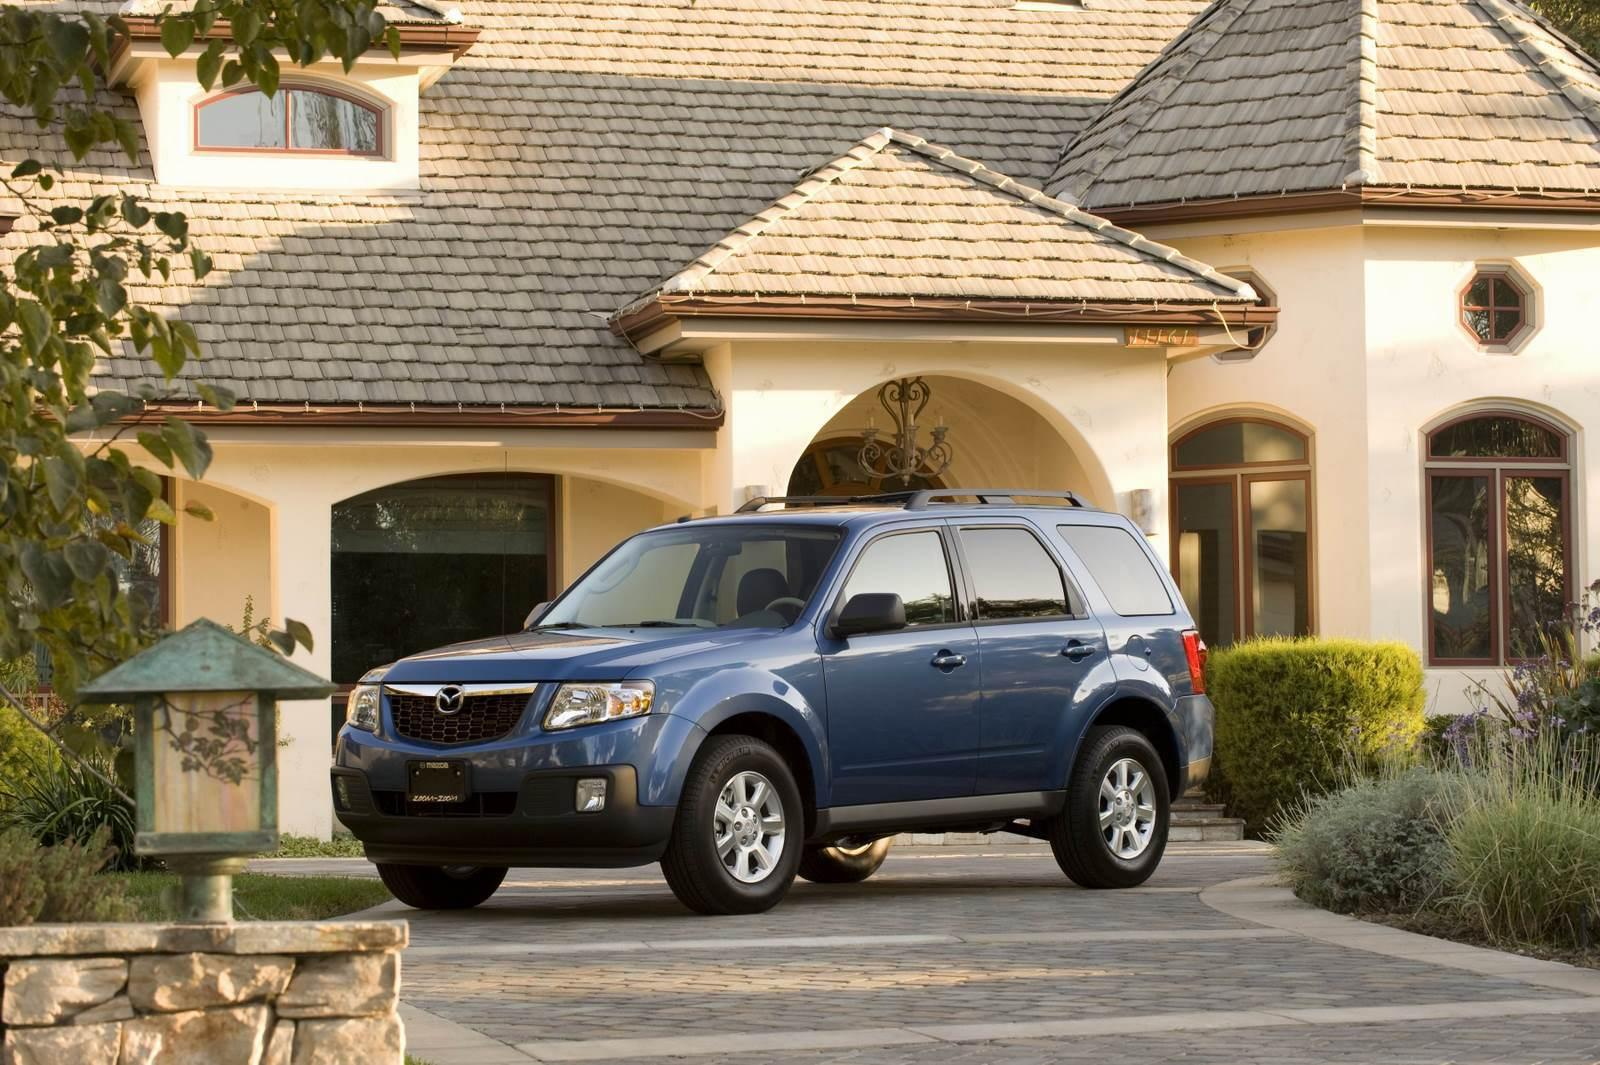Mazda: (428, 674, 483, 723)
